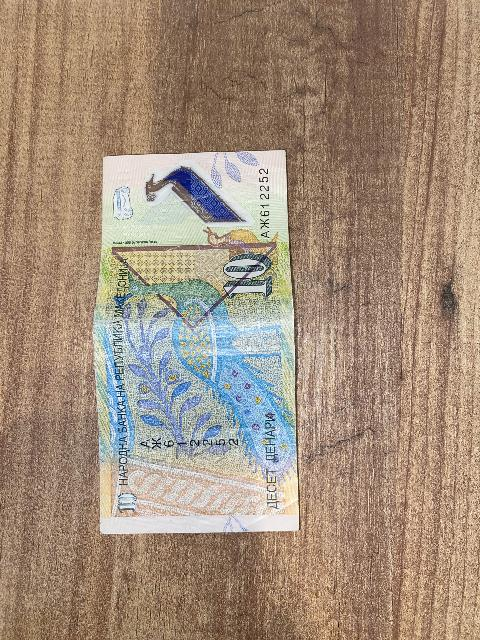10_note: (94, 152, 298, 533)
